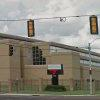Traffic light: (20, 12, 100, 47)
